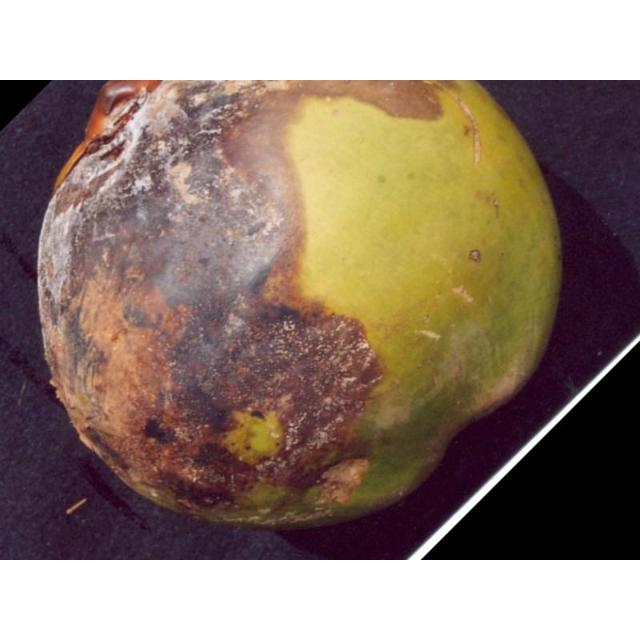damaged: (38, 80, 561, 526)
